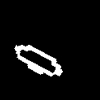chain: (15, 45, 62, 75)
